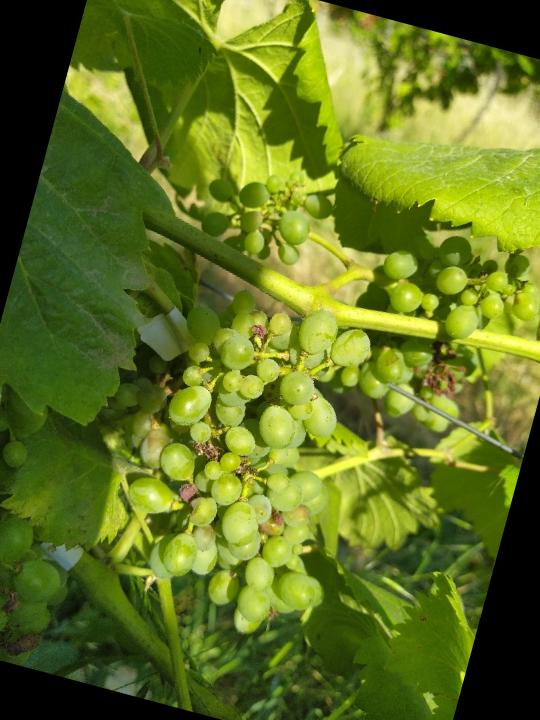grape: (65, 262, 402, 655), (327, 213, 540, 452), (191, 149, 341, 274)
